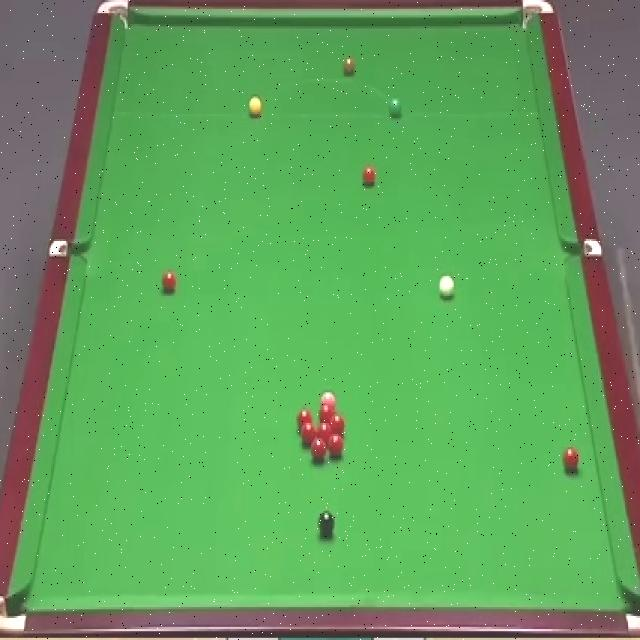black-ball: (318, 510, 336, 536)
brown-ball: (342, 56, 355, 76)
green-ball: (387, 95, 402, 118)
pink-ball: (320, 390, 336, 408)
red-ball: (562, 446, 579, 471), (319, 419, 335, 442), (327, 434, 343, 457), (312, 435, 327, 457), (361, 166, 376, 188), (161, 269, 175, 292), (298, 409, 312, 429), (303, 422, 319, 437), (334, 413, 344, 434), (319, 409, 333, 420)
white-ball: (438, 274, 456, 298)
yellow-ball: (248, 95, 262, 116)
